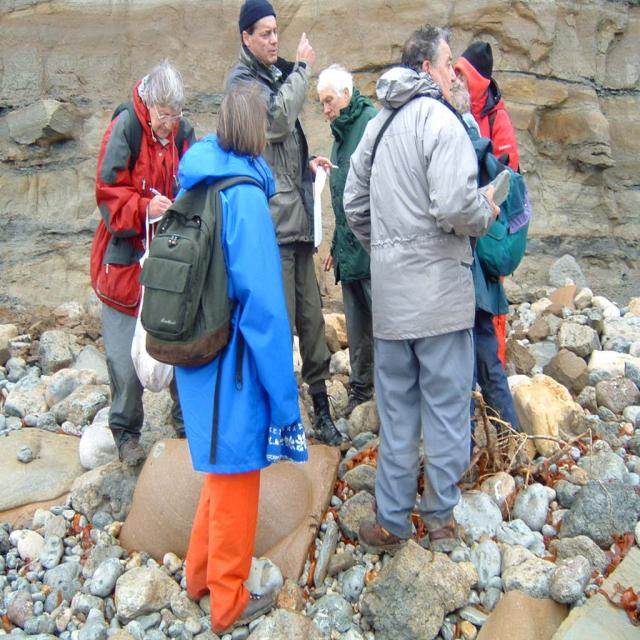backpack: (136, 176, 262, 364), (481, 149, 533, 277), (110, 105, 196, 171)
